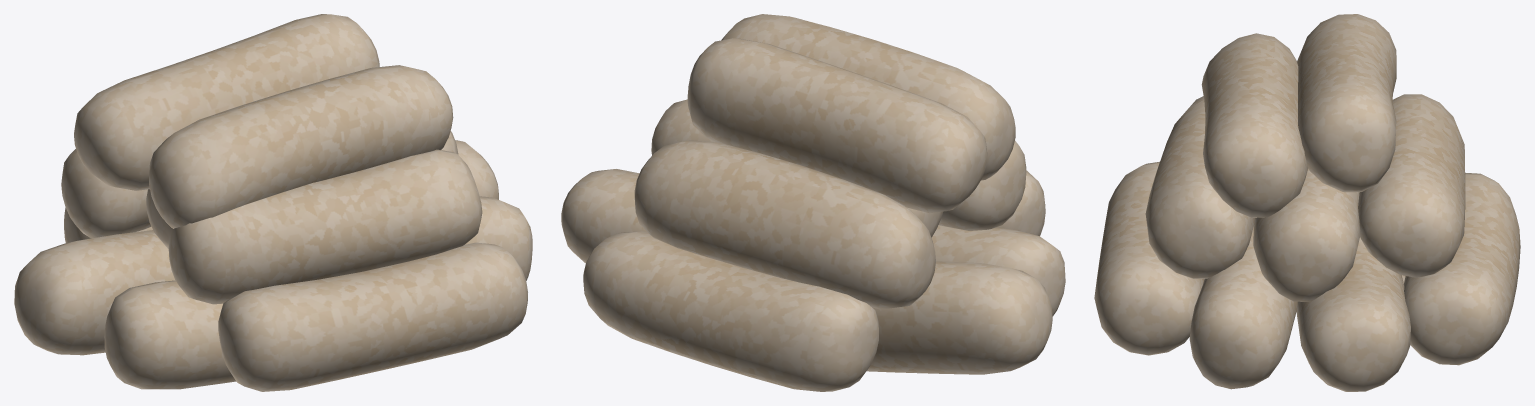
The model's file is Plate01.fbx.
3 renders of one model, left to right at view 1: azimuth 30°, elevation 25°; view 2: azimuth 150°, elevation 25°; view 3: azimuth 270°, elevation 25°, orthographic. The views are drawn at different scales.
Parts seen in each view (by area): view 1: Dessert01Plate; view 2: Dessert01Plate; view 3: Dessert01Plate.
Part boxes in pixels (x1=…): Dessert01Plate: x1=14, y1=14, x2=532, y2=391; Dessert01Plate: x1=561, y1=14, x2=1065, y2=391; Dessert01Plate: x1=1094, y1=14, x2=1520, y2=391.
Size of the model in its own units: 25.04 by 15.46 by 20.84.
1 material, 1 textured.
